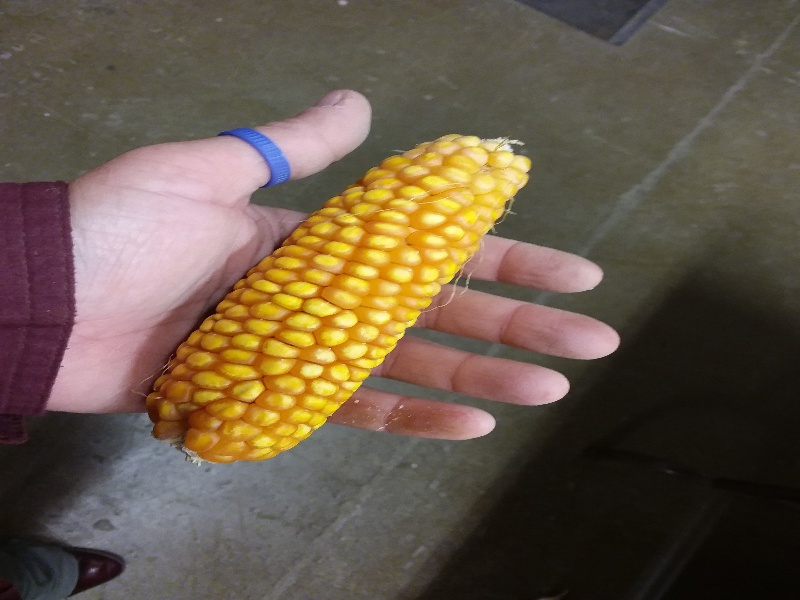band: (214, 125, 295, 187)
ear: (143, 129, 537, 464)
